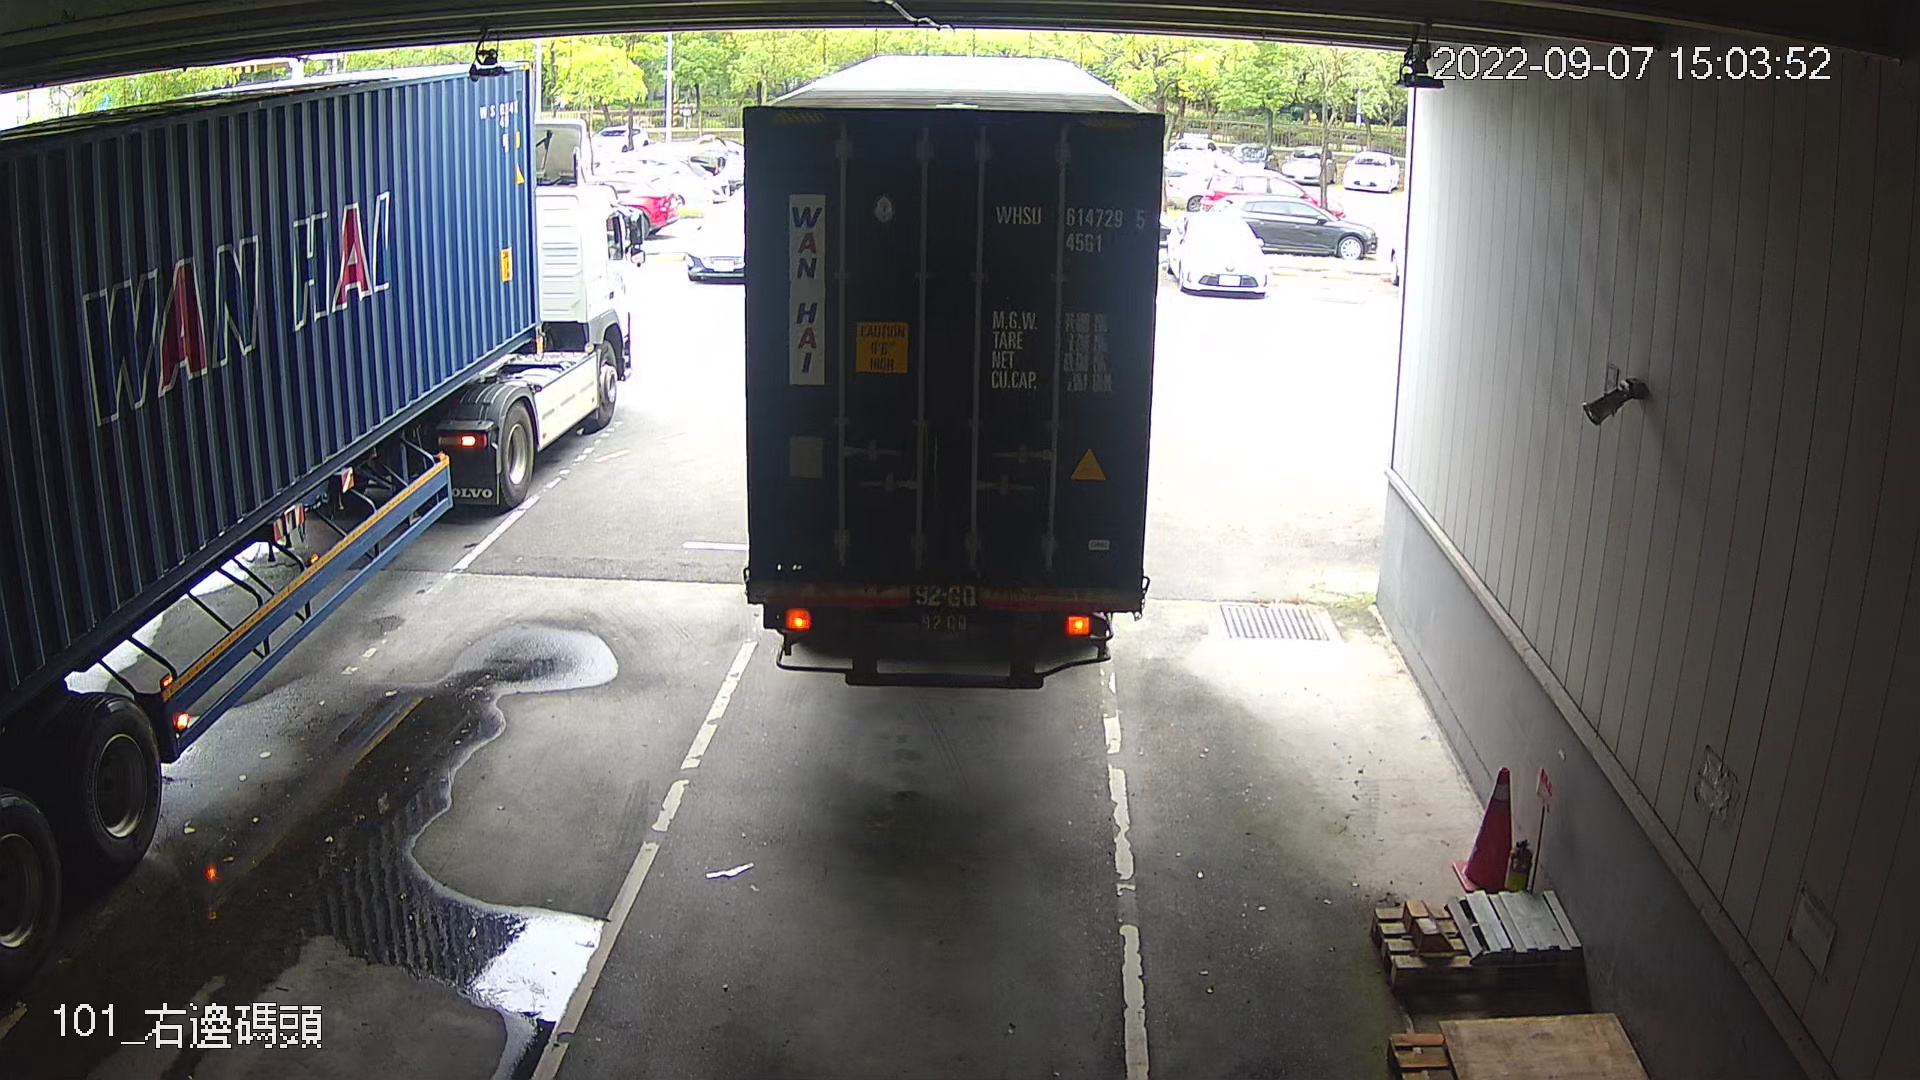container: (989, 195, 1150, 260)
